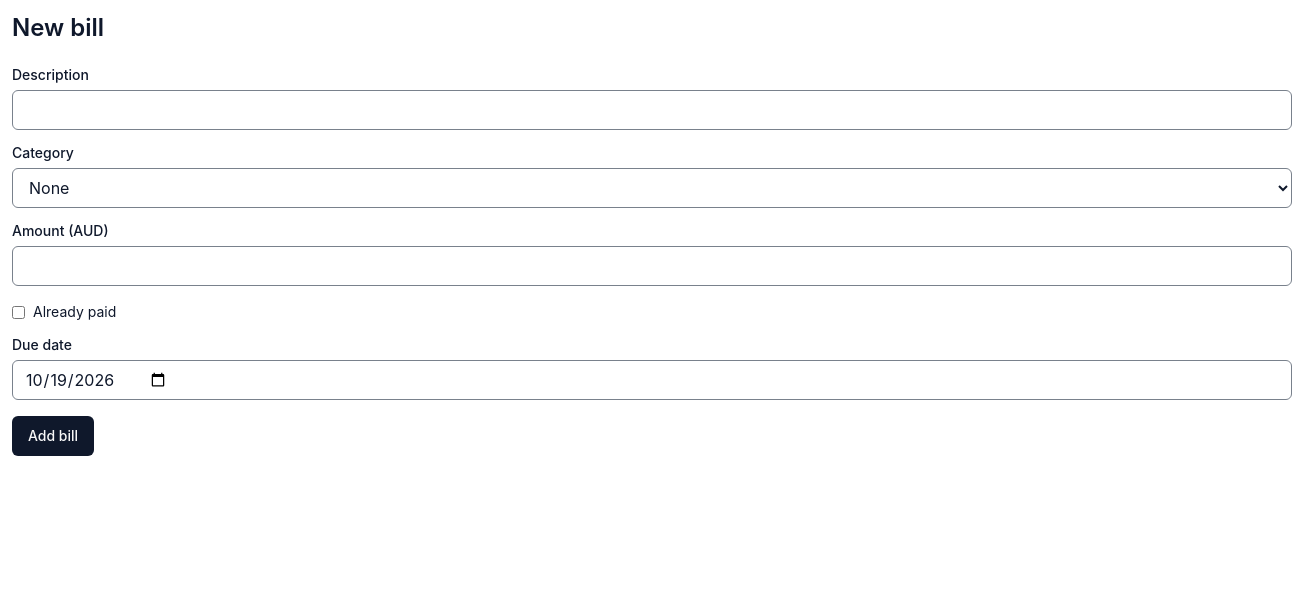
Test: NewBillPage › opens the bill saved by an earlier try when a retry with changes gets CONFLICT
This screenshot has width=1304, height=616.
In the field labelled "Description": (652, 110) [12,90,1292,130], type "Phone"
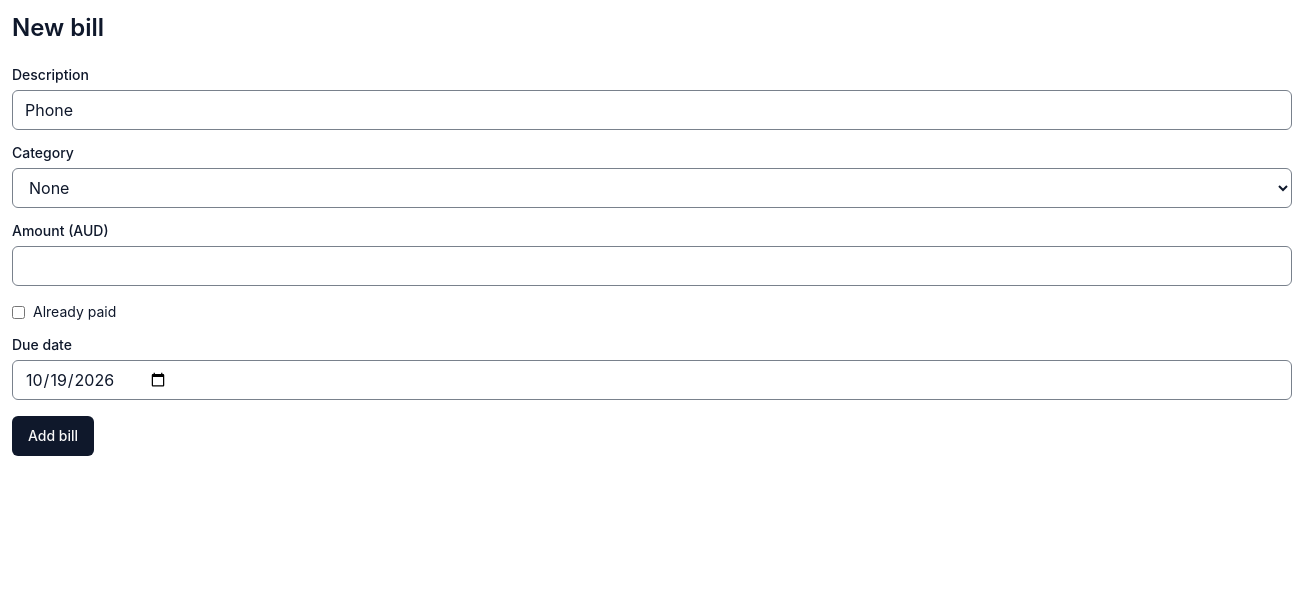
In the field labelled "Amount (AUD)": (652, 266) [12,246,1292,286], type "46"
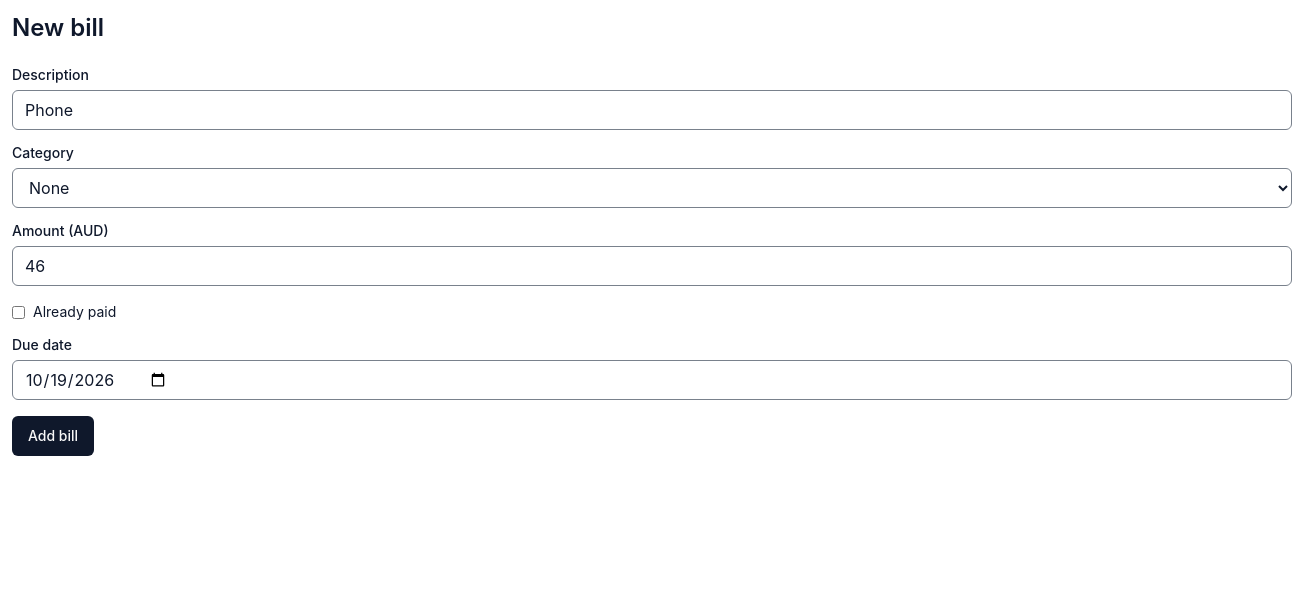
Click the button "Add bill": click(53, 436) [12,416,94,456]
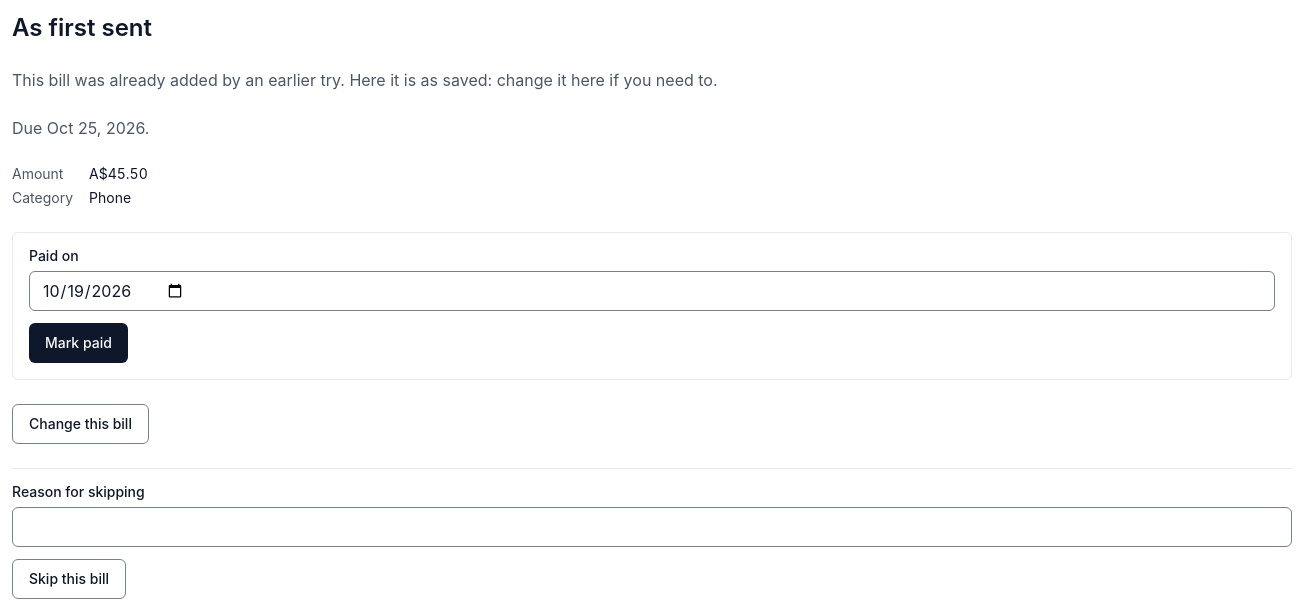
Now the heading "As first sent" is shown, box [12,13,152,42]
Now the text "already added by an earlier try" is shown, box [12,70,718,90]
